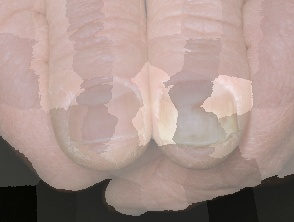Nail_psoriasis: (51, 62, 159, 175), (151, 60, 252, 178)
